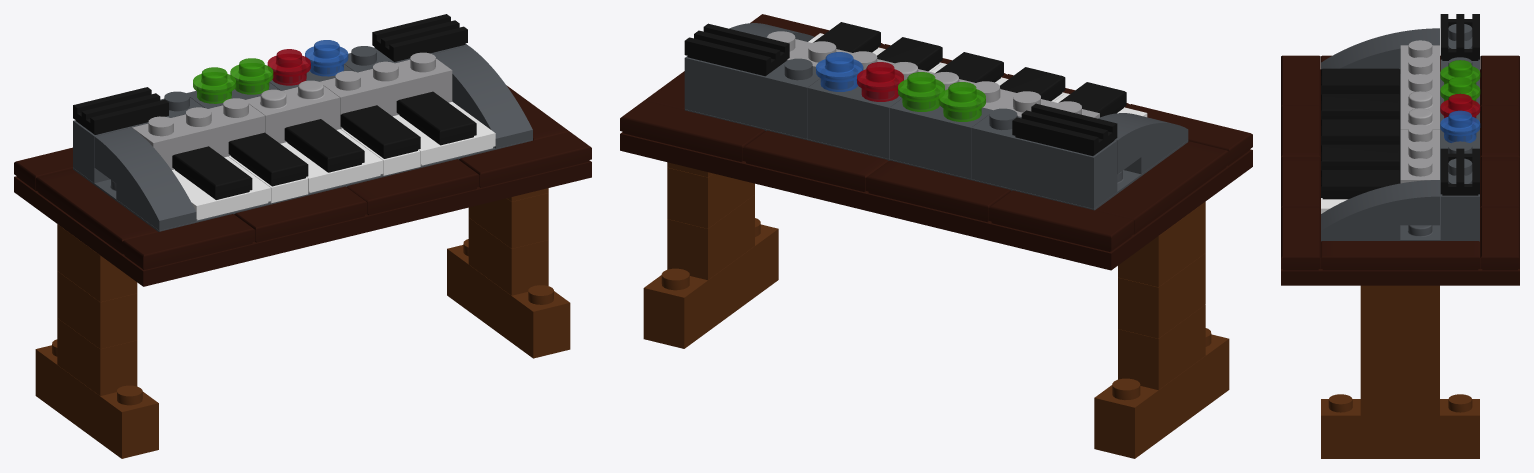
The model's file is piano.glb.
The picture shows the model from 3 angles, left to right: view 1: azimuth 30°, elevation 25°; view 2: azimuth 150°, elevation 25°; view 3: azimuth 270°, elevation 25°; orthographic projection. The views are drawn at different scales.
Parts seen in each view (by area): view 1: Lego Electric Piano; view 2: Lego Electric Piano; view 3: Lego Electric Piano.
Boxes of the visible parts, x1,y1,x2,y2 form: Lego Electric Piano: (14, 14, 591, 458); Lego Electric Piano: (620, 14, 1252, 458); Lego Electric Piano: (1281, 14, 1519, 458).
Bounding box in the file's own units: 2.22 × 1.38 × 1.11.
